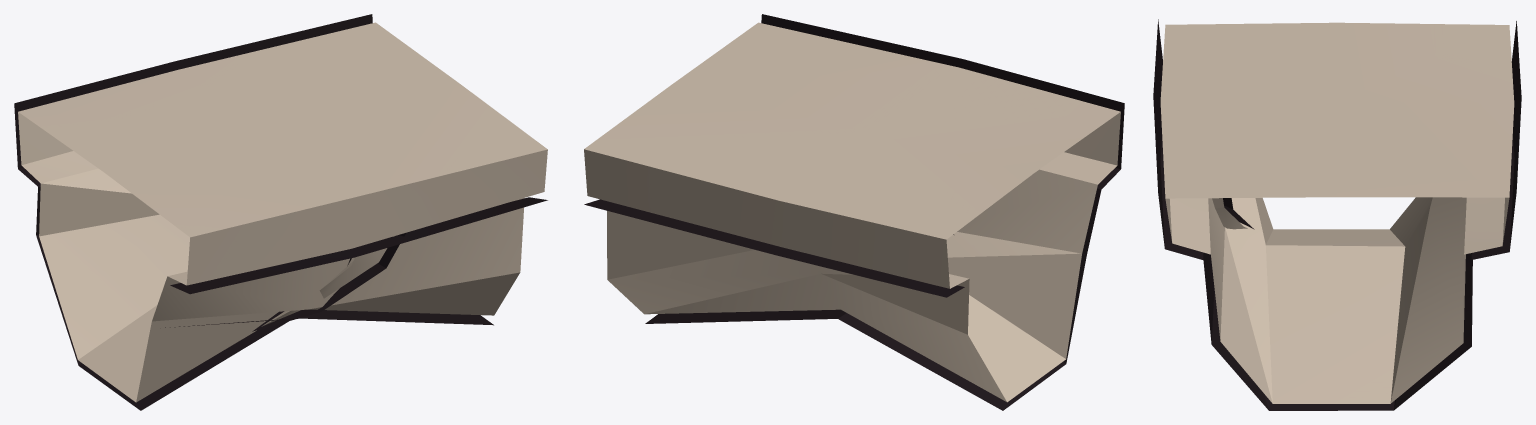
Rendered from SM_Trail_Deck_06.fbx.
The picture shows the model from 3 angles, left to right: view 1: azimuth 30°, elevation 25°; view 2: azimuth 150°, elevation 25°; view 3: azimuth 270°, elevation 25°; orthographic projection.
Visible parts, largest first — view 1: SM_Trail_Deck_06; view 2: SM_Trail_Deck_06; view 3: SM_Trail_Deck_06.
Boxes of the visible parts, x1=… form: SM_Trail_Deck_06: x1=14, y1=14, x2=547, y2=410; SM_Trail_Deck_06: x1=584, y1=14, x2=1124, y2=410; SM_Trail_Deck_06: x1=1153, y1=19, x2=1521, y2=410.
Size of the model in its own units: 6.01 by 3.58 by 5.35.
